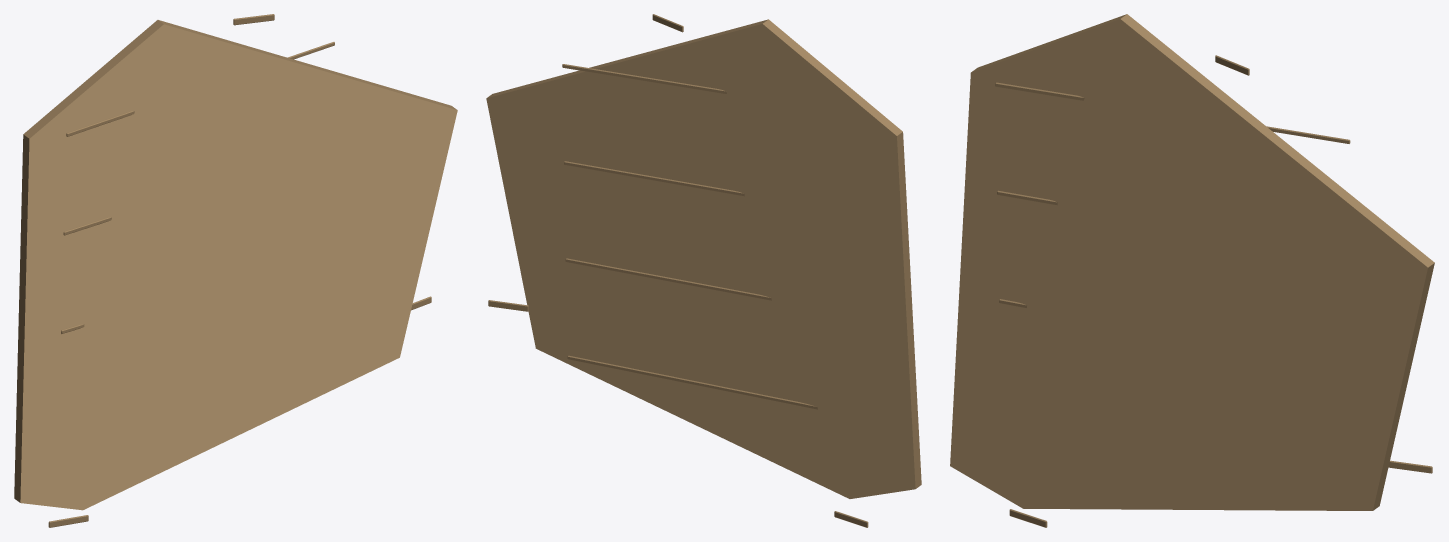
The model's file is cardboard_fin.glb.
The picture shows the model from 3 angles, left to right: view 1: azimuth 30°, elevation 25°; view 2: azimuth 150°, elevation 25°; view 3: azimuth 330°, elevation 25°; orthographic projection. The views are drawn at different scales.
Parts seen in each view (by area): view 1: Cardboard_Fin_Body, Cardboard_Fiber_Line_4; view 2: Cardboard_Fin_Body, Cardboard_Fiber_Line_1, Cardboard_Fiber_Line_2, Cardboard_Fiber_Line_3, Cardboard_Fiber_Line_4; view 3: Cardboard_Fin_Body, Cardboard_Fiber_Line_4.
Boxes of the visible parts, <box> form: Cardboard_Fin_Body: <box>14,20,457,510</box>; Cardboard_Fiber_Line_4: <box>66,42,334,136</box>; Cardboard_Fin_Body: <box>486,19,921,498</box>; Cardboard_Fiber_Line_1: <box>567,355,817,409</box>; Cardboard_Fiber_Line_2: <box>565,258,771,300</box>; Cardboard_Fiber_Line_3: <box>564,161,744,196</box>; Cardboard_Fiber_Line_4: <box>562,64,726,93</box>; Cardboard_Fin_Body: <box>950,14,1434,510</box>; Cardboard_Fiber_Line_4: <box>995,82,1350,143</box>.
Bounding box in the file's own units: 0.7291 × 0.7719 × 0.0809.
